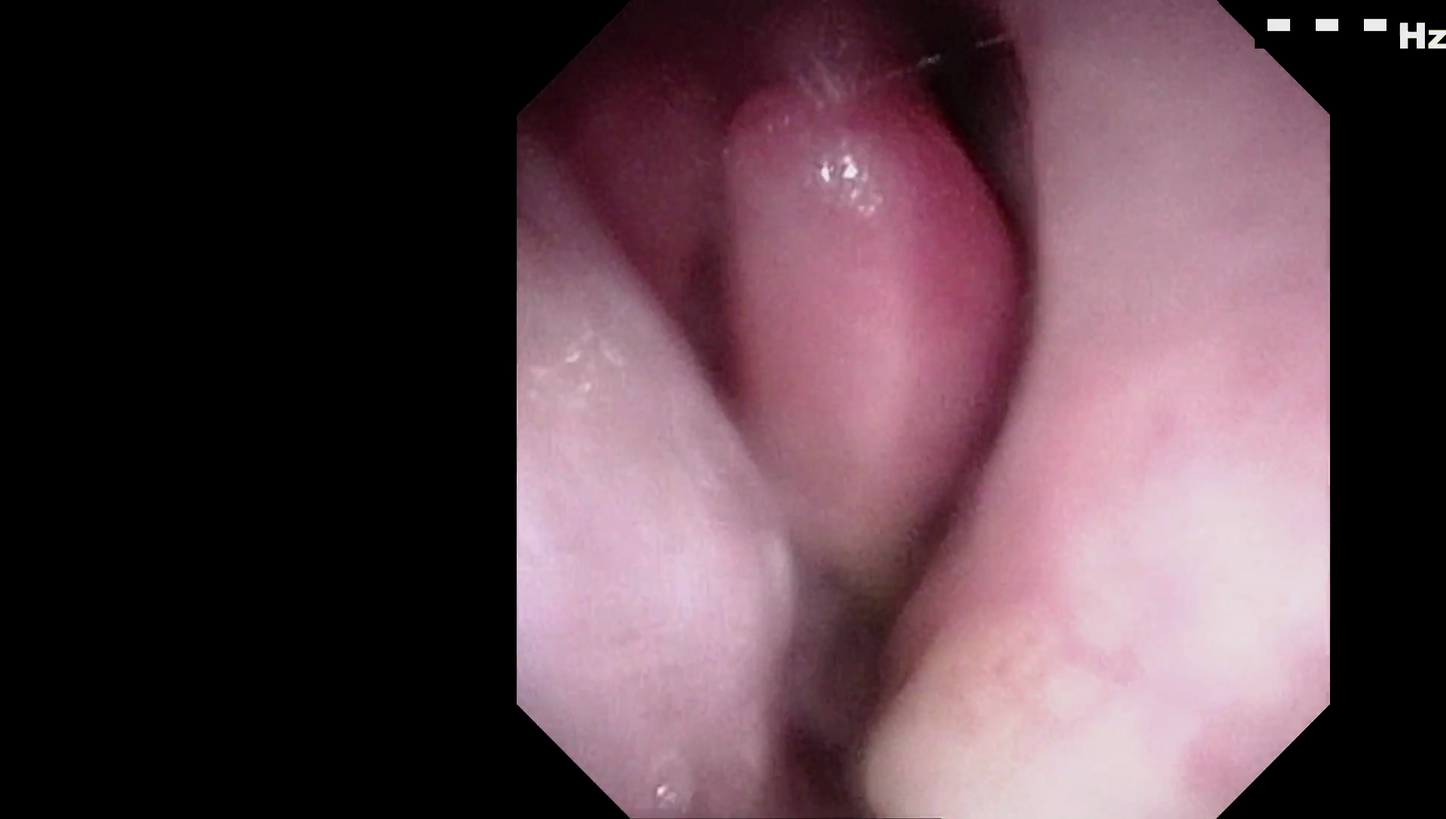close_wall: (918, 316, 1321, 811)
next: (734, 494, 950, 819), (858, 1, 1035, 217)
